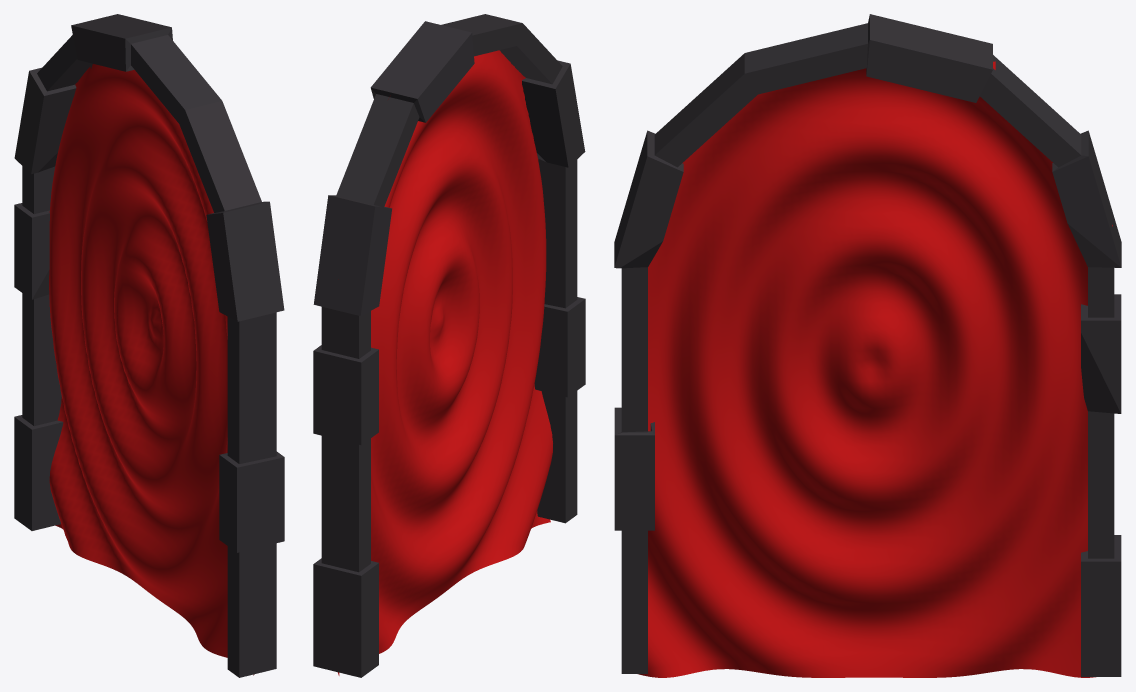
The model's file is portal.obj.
3 renders of one model, left to right at view 1: azimuth 30°, elevation 25°; view 2: azimuth 150°, elevation 25°; view 3: azimuth 270°, elevation 25°, orthographic. The views are drawn at different scales.
Parts seen in each view (by area): view 1: Plane, Cube, Cube.001; view 2: Plane, Cube.001, Cube; view 3: Plane, Cube.001, Cube.
Part boxes in pixels (x1,y1,x2,y2): Plane: (49,64,254,675); Cube: (22,35,276,677); Cube.001: (14,14,284,552); Plane: (338,50,552,675); Cube.001: (313,21,585,677); Cube: (321,14,577,572); Plane: (638,61,1112,677); Cube.001: (614,14,1121,676); Cube: (621,23,1114,673).
Size of the model in its own units: 1.31 by 14.66 by 10.44.
